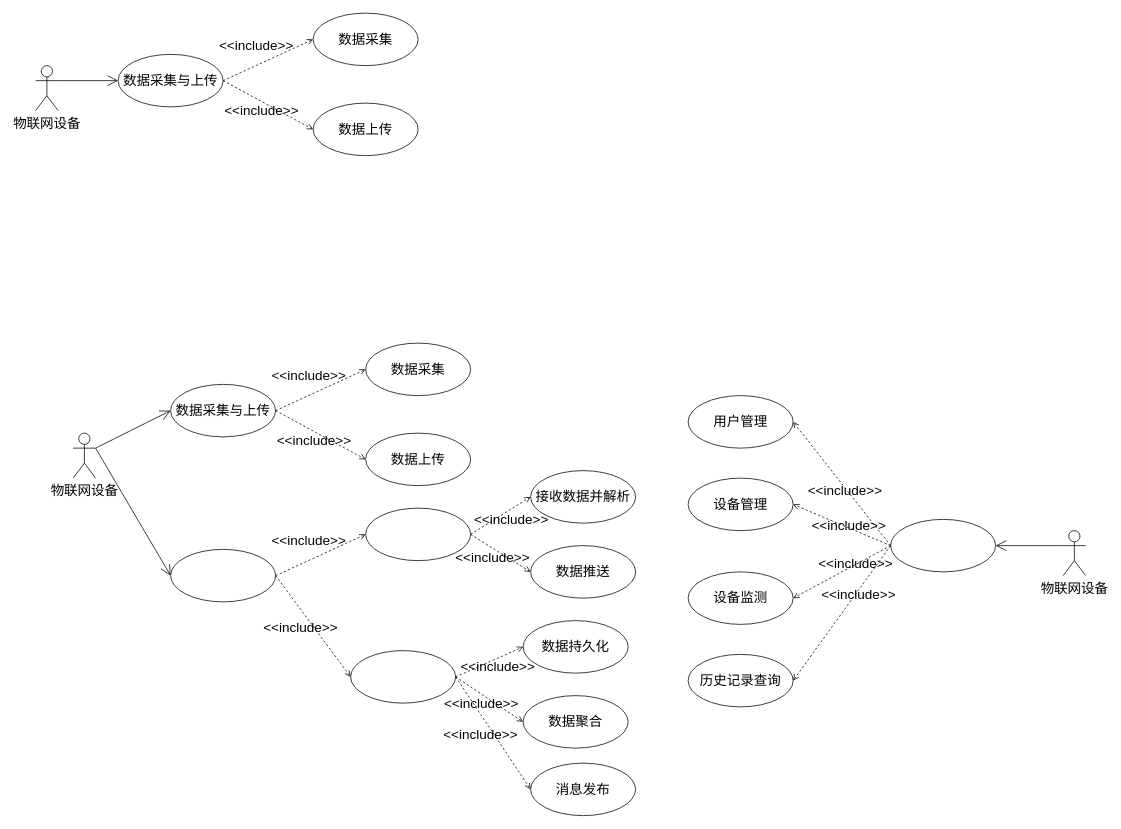
Image size: 1121x829. Some labels were removed from this diagram. The box of each missing label's shape, as (x1, y1, x2, y2) in pixels:
数据处理: (350, 650, 456, 703)
数据接入与处理: (170, 549, 276, 602)
数据接收与解析: (365, 507, 471, 561)
数据服务管理: (890, 519, 996, 572)
